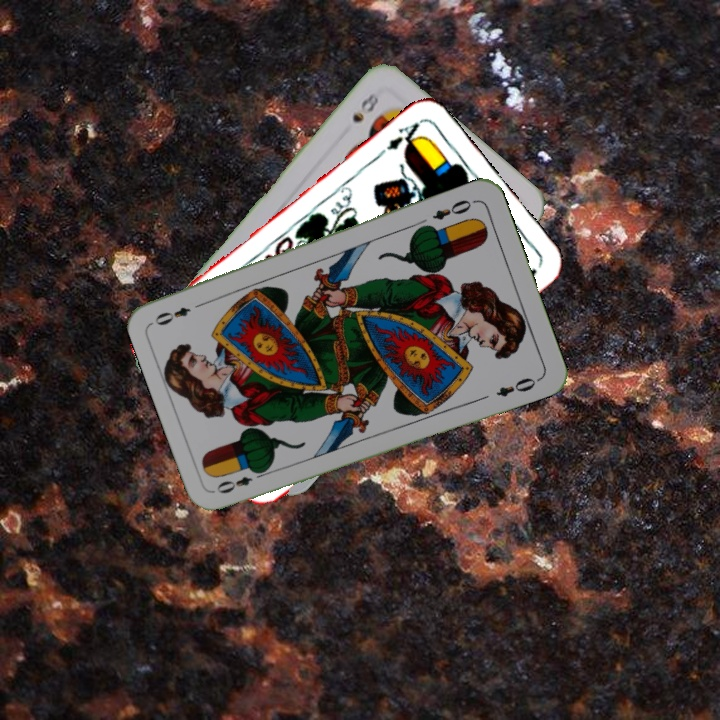EA: (374, 117, 425, 160)
EO: (212, 466, 269, 496), (428, 195, 478, 223)
S8: (348, 88, 382, 125)
